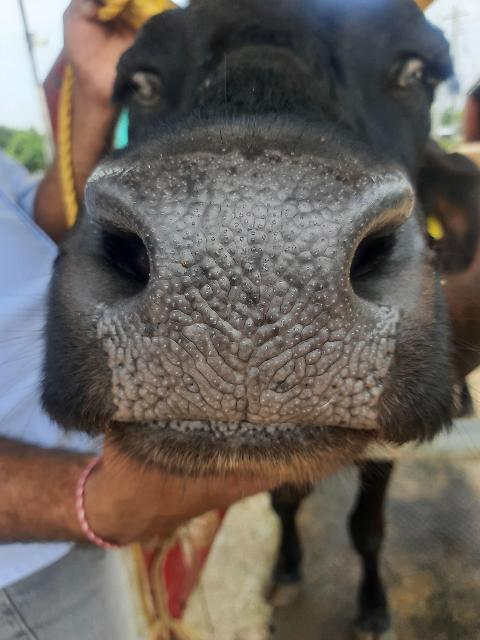Muzzle: (160, 178, 341, 410)
